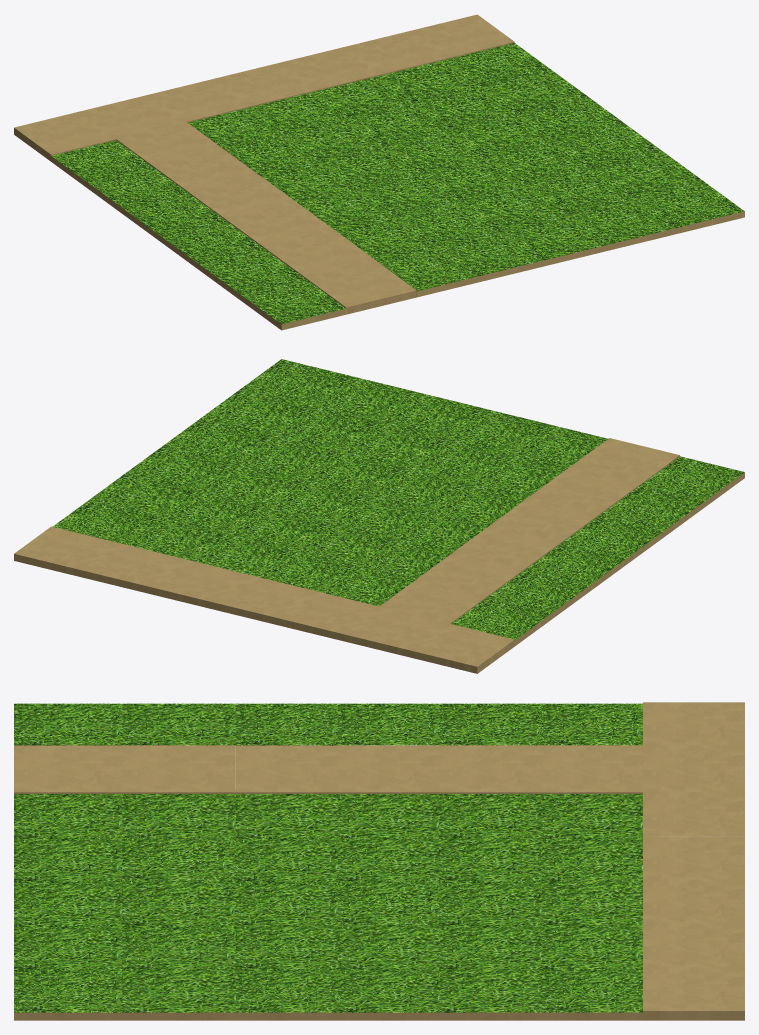
Rendered from ground.fbx.
The picture shows the model from 3 angles, top to bottom: view 1: azimuth 30°, elevation 25°; view 2: azimuth 150°, elevation 25°; view 3: azimuth 270°, elevation 25°; orthographic projection. The views are drawn at different scales.
Parts seen in each view (by area): view 1: Plane; view 2: Plane; view 3: Plane.
Part boxes in pixels (x1,y1,x2,y2): Plane: (14,14,744,330); Plane: (14,359,744,673); Plane: (14,702,744,1020).
Bounding box in the file's own units: 3000 × 43.91 × 3000.
